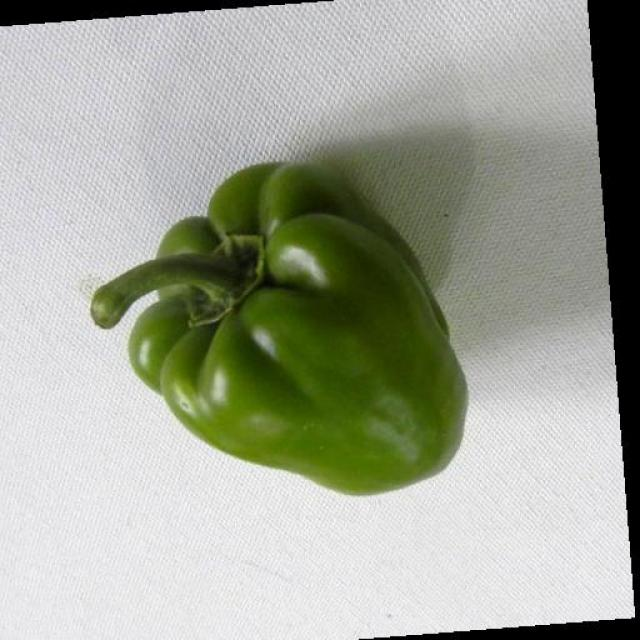Fresh_Capsicum: (94, 165, 477, 507)
